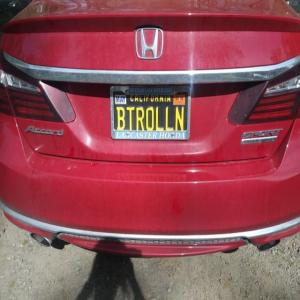Plate: (109, 86, 192, 141)
